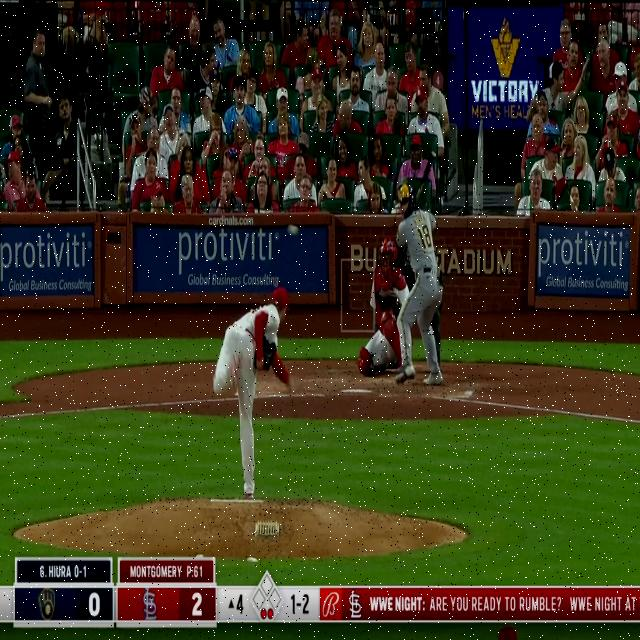baseball: (287, 222, 301, 238)
